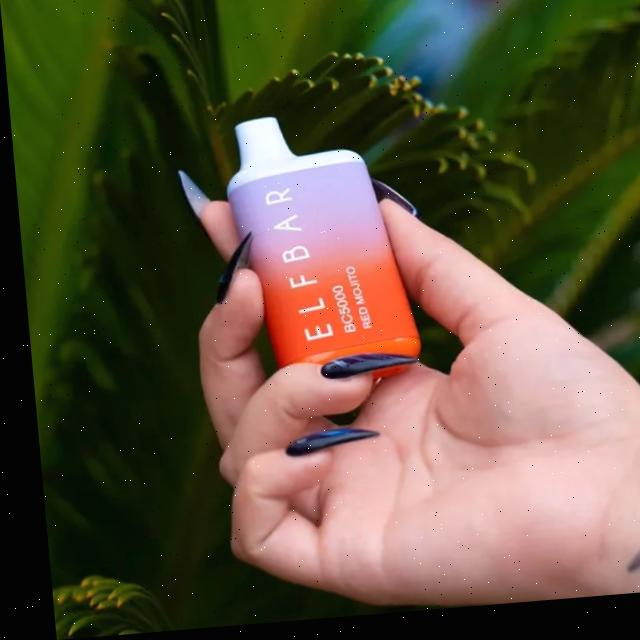vape: (219, 113, 417, 393)
